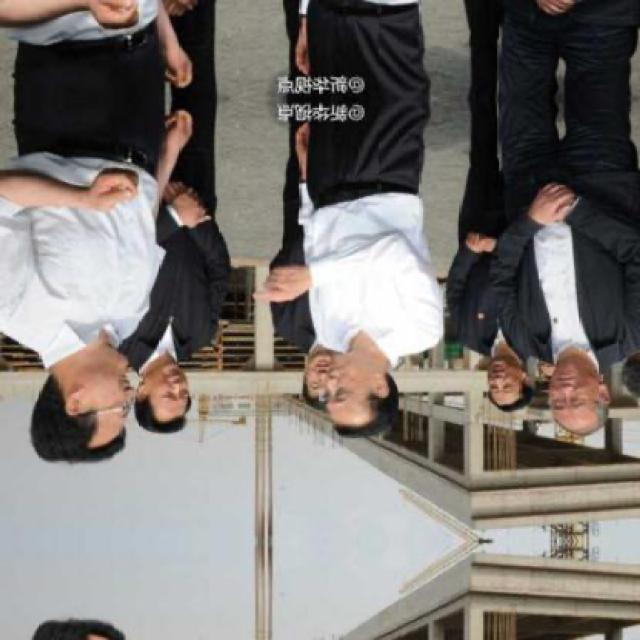sin casco: (0, 257, 161, 487), (301, 333, 416, 462), (545, 304, 632, 445), (130, 317, 197, 468), (461, 303, 534, 421)
